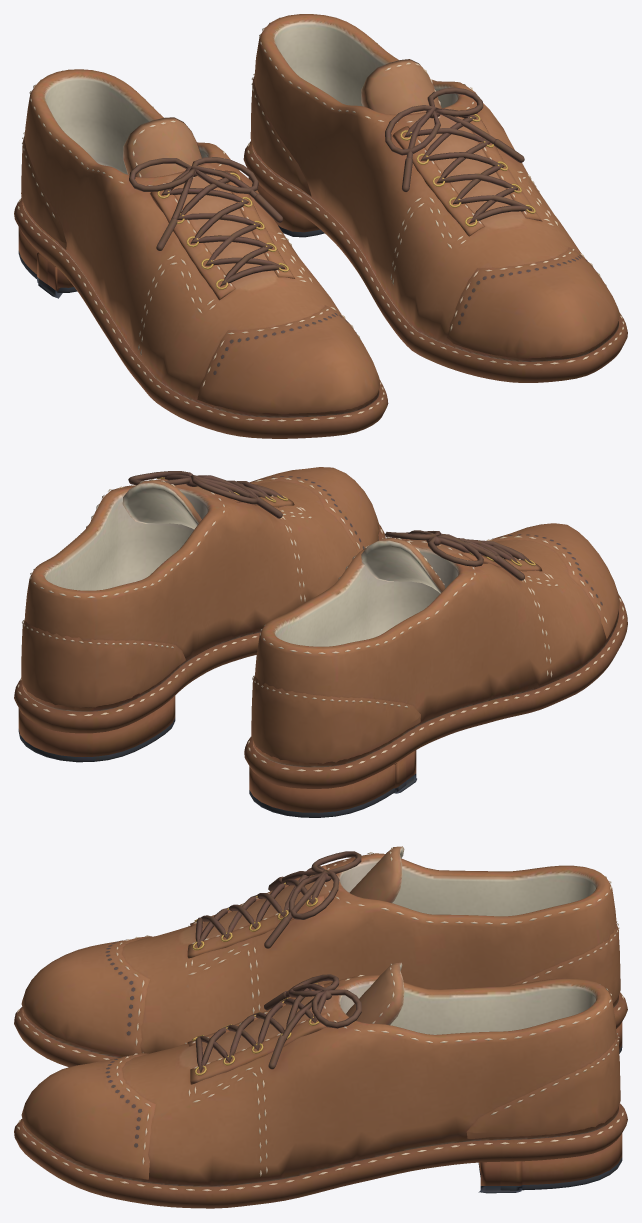
File: zapatos_m3.glb
3 renders of one model, top to bottom at view 1: azimuth 30°, elevation 25°; view 2: azimuth 150°, elevation 25°; view 3: azimuth 270°, elevation 25°, orthographic.
Parts seen in each view (by area): view 1: shoe_body; view 2: shoe_body; view 3: shoe_body.
Part boxes in pixels (left/top/right/bottom): shoe_body: left=14, top=14, right=627, bottom=438; shoe_body: left=14, top=467, right=627, bottom=817; shoe_body: left=14, top=846, right=627, bottom=1208.
Bounding box in the file's own units: 0.2482 × 0.1048 × 0.3.
Materials: 1 (1 with a texture image).
